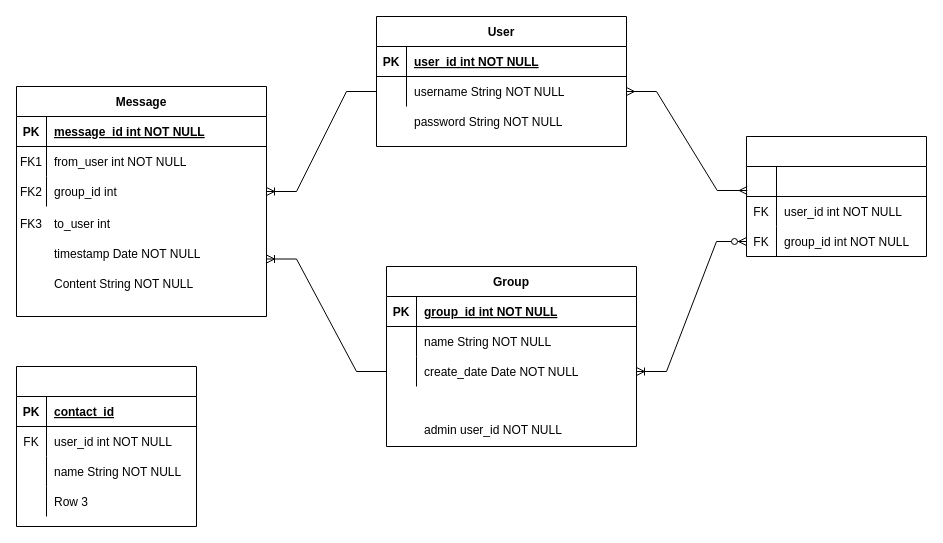
This 943x543 diagram has some shape labels left out. Each missing label, with the box of its shape:
Contacts: (16, 366, 196, 526)
UserInGroup: (746, 136, 926, 256)
